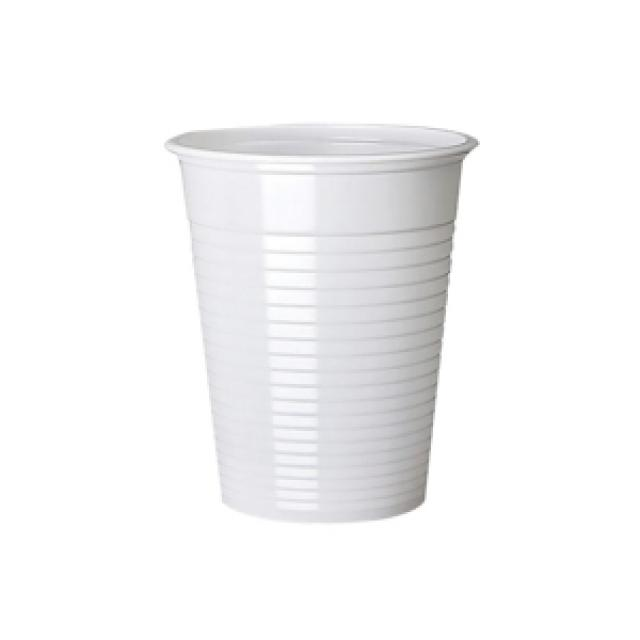plastic cup: (160, 115, 486, 531)
